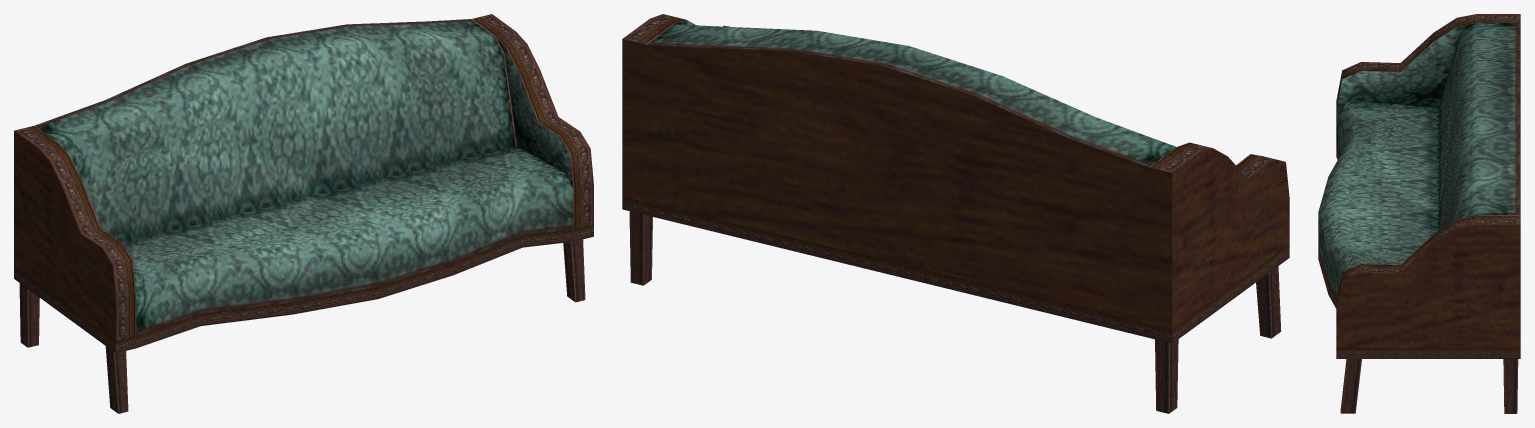
File: couch_antq_blu.fbx
The picture shows the model from 3 angles, left to right: view 1: azimuth 30°, elevation 25°; view 2: azimuth 150°, elevation 25°; view 3: azimuth 270°, elevation 25°; orthographic projection. The views are drawn at different scales.
Parts seen in each view (by area): view 1: mesh_0; view 2: mesh_0; view 3: mesh_0.
Boxes of the visible parts, x1,y1,x2,y2 form: mesh_0: (14, 14, 593, 413); mesh_0: (622, 14, 1289, 413); mesh_0: (1318, 14, 1520, 413).
Bounding box in the file's own units: 200 × 97.32 × 81.06.
Materials: 1 (1 with a texture image).
